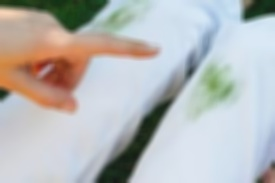earth: (204, 67, 234, 102), (104, 11, 131, 30)
